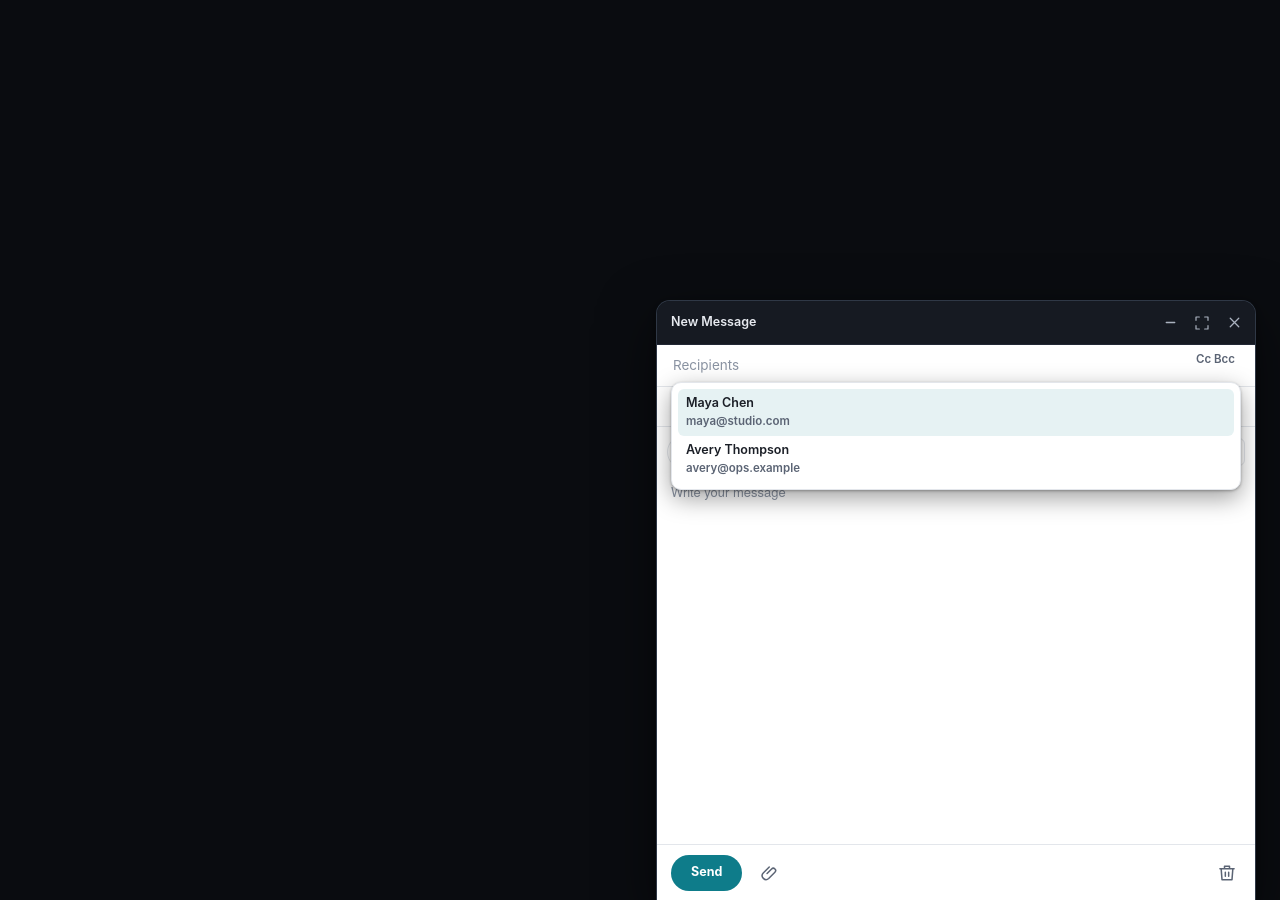
Test: ComposeModal › turns known people into recipient chips
Type "may" into the field labelled "Recipients" at (926, 366), box [671,354,1182,377]
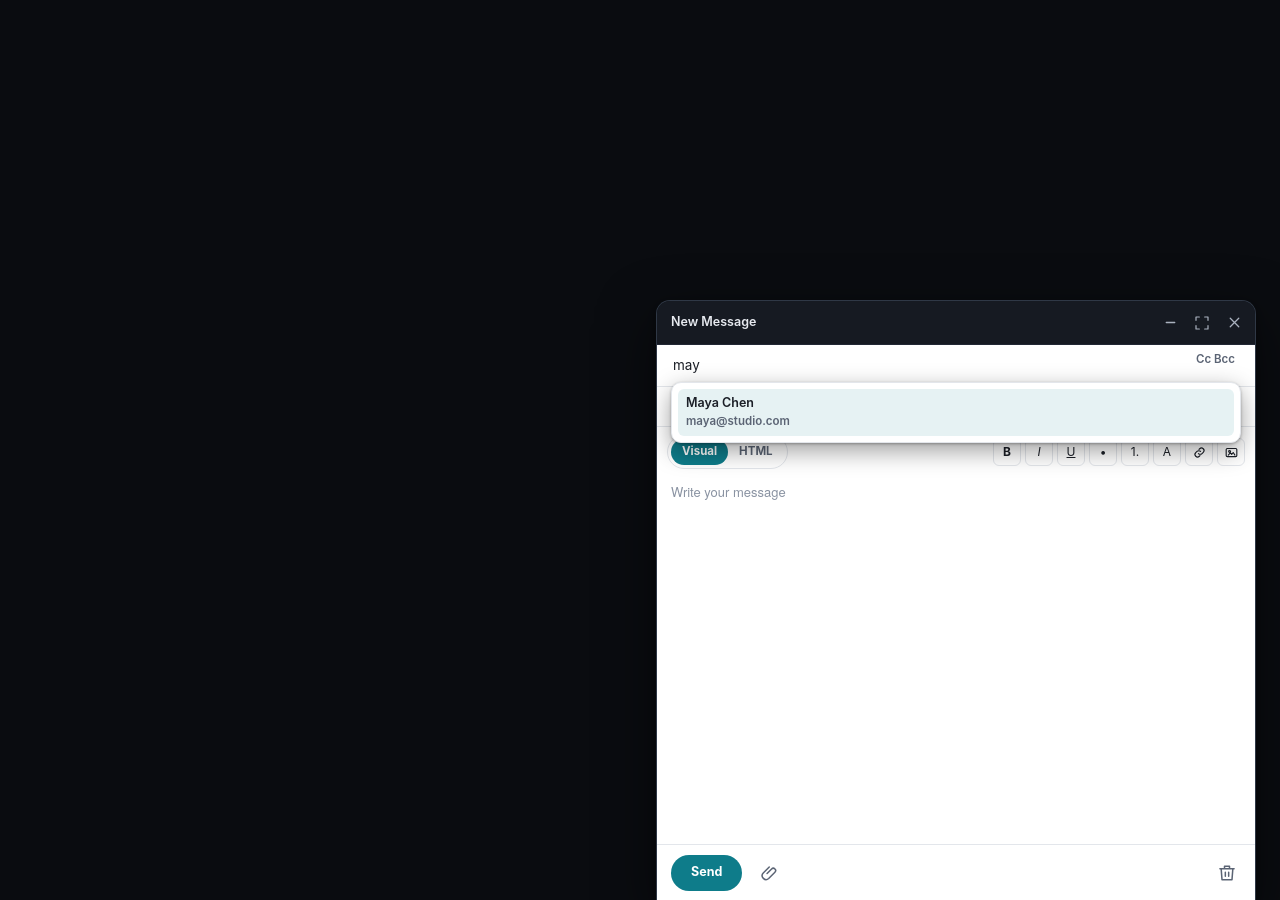
Click the option "Maya Chen maya@studio.com" at (720, 402), box [678,389,1234,436]
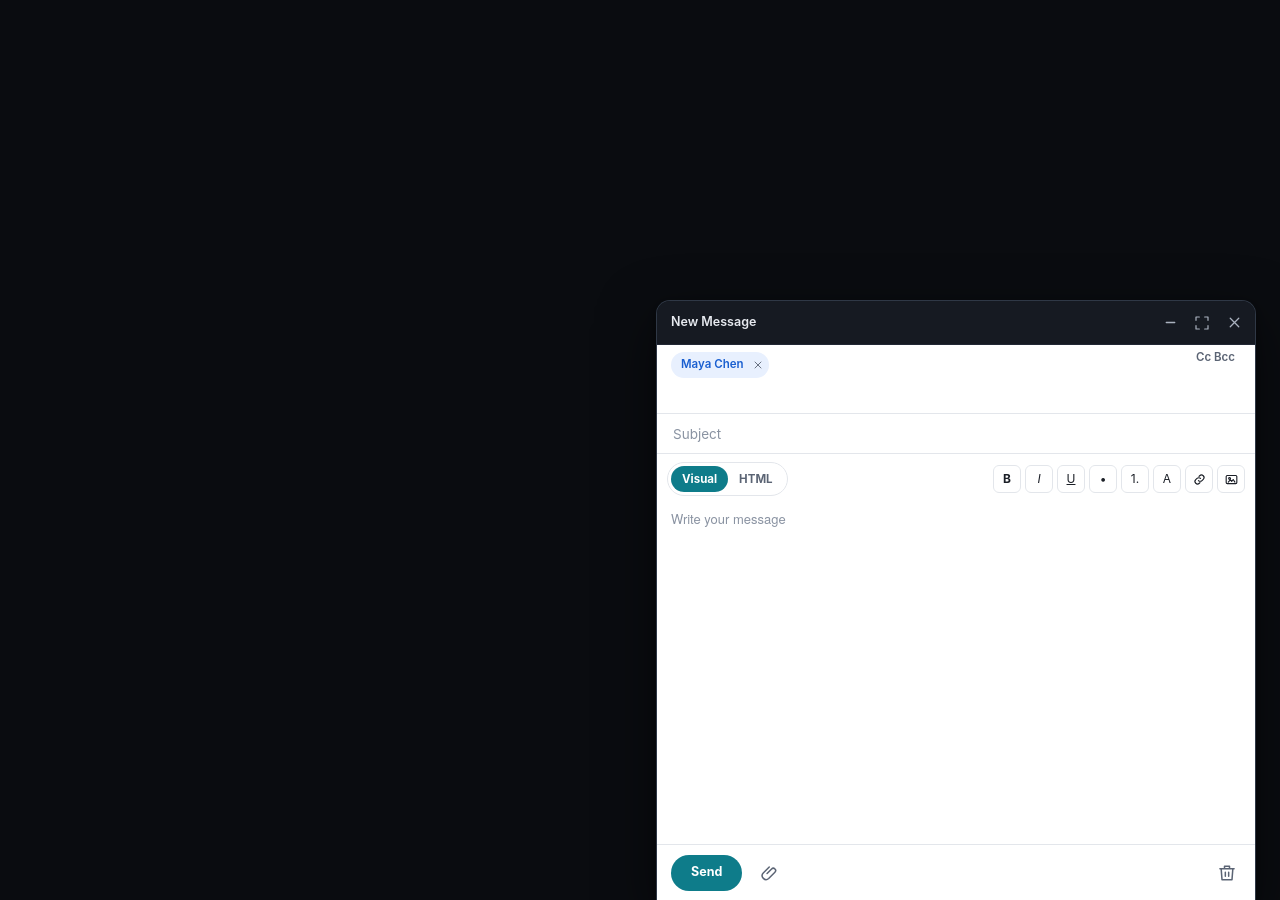
Check: the element titled "maya@studio.com" is shown, box [671,352,768,378]
Check: the button named "Remove Maya Chen <maya@studio.com>" is shown, box [746,355,766,375]
